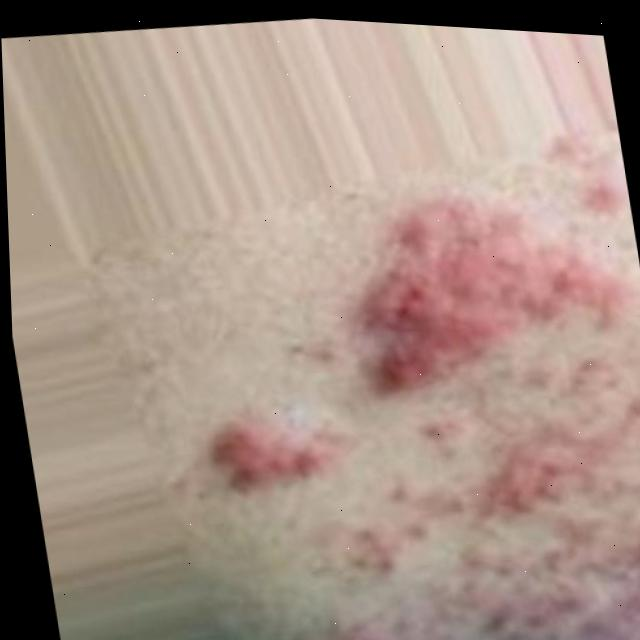Shingles: (161, 101, 640, 640)
